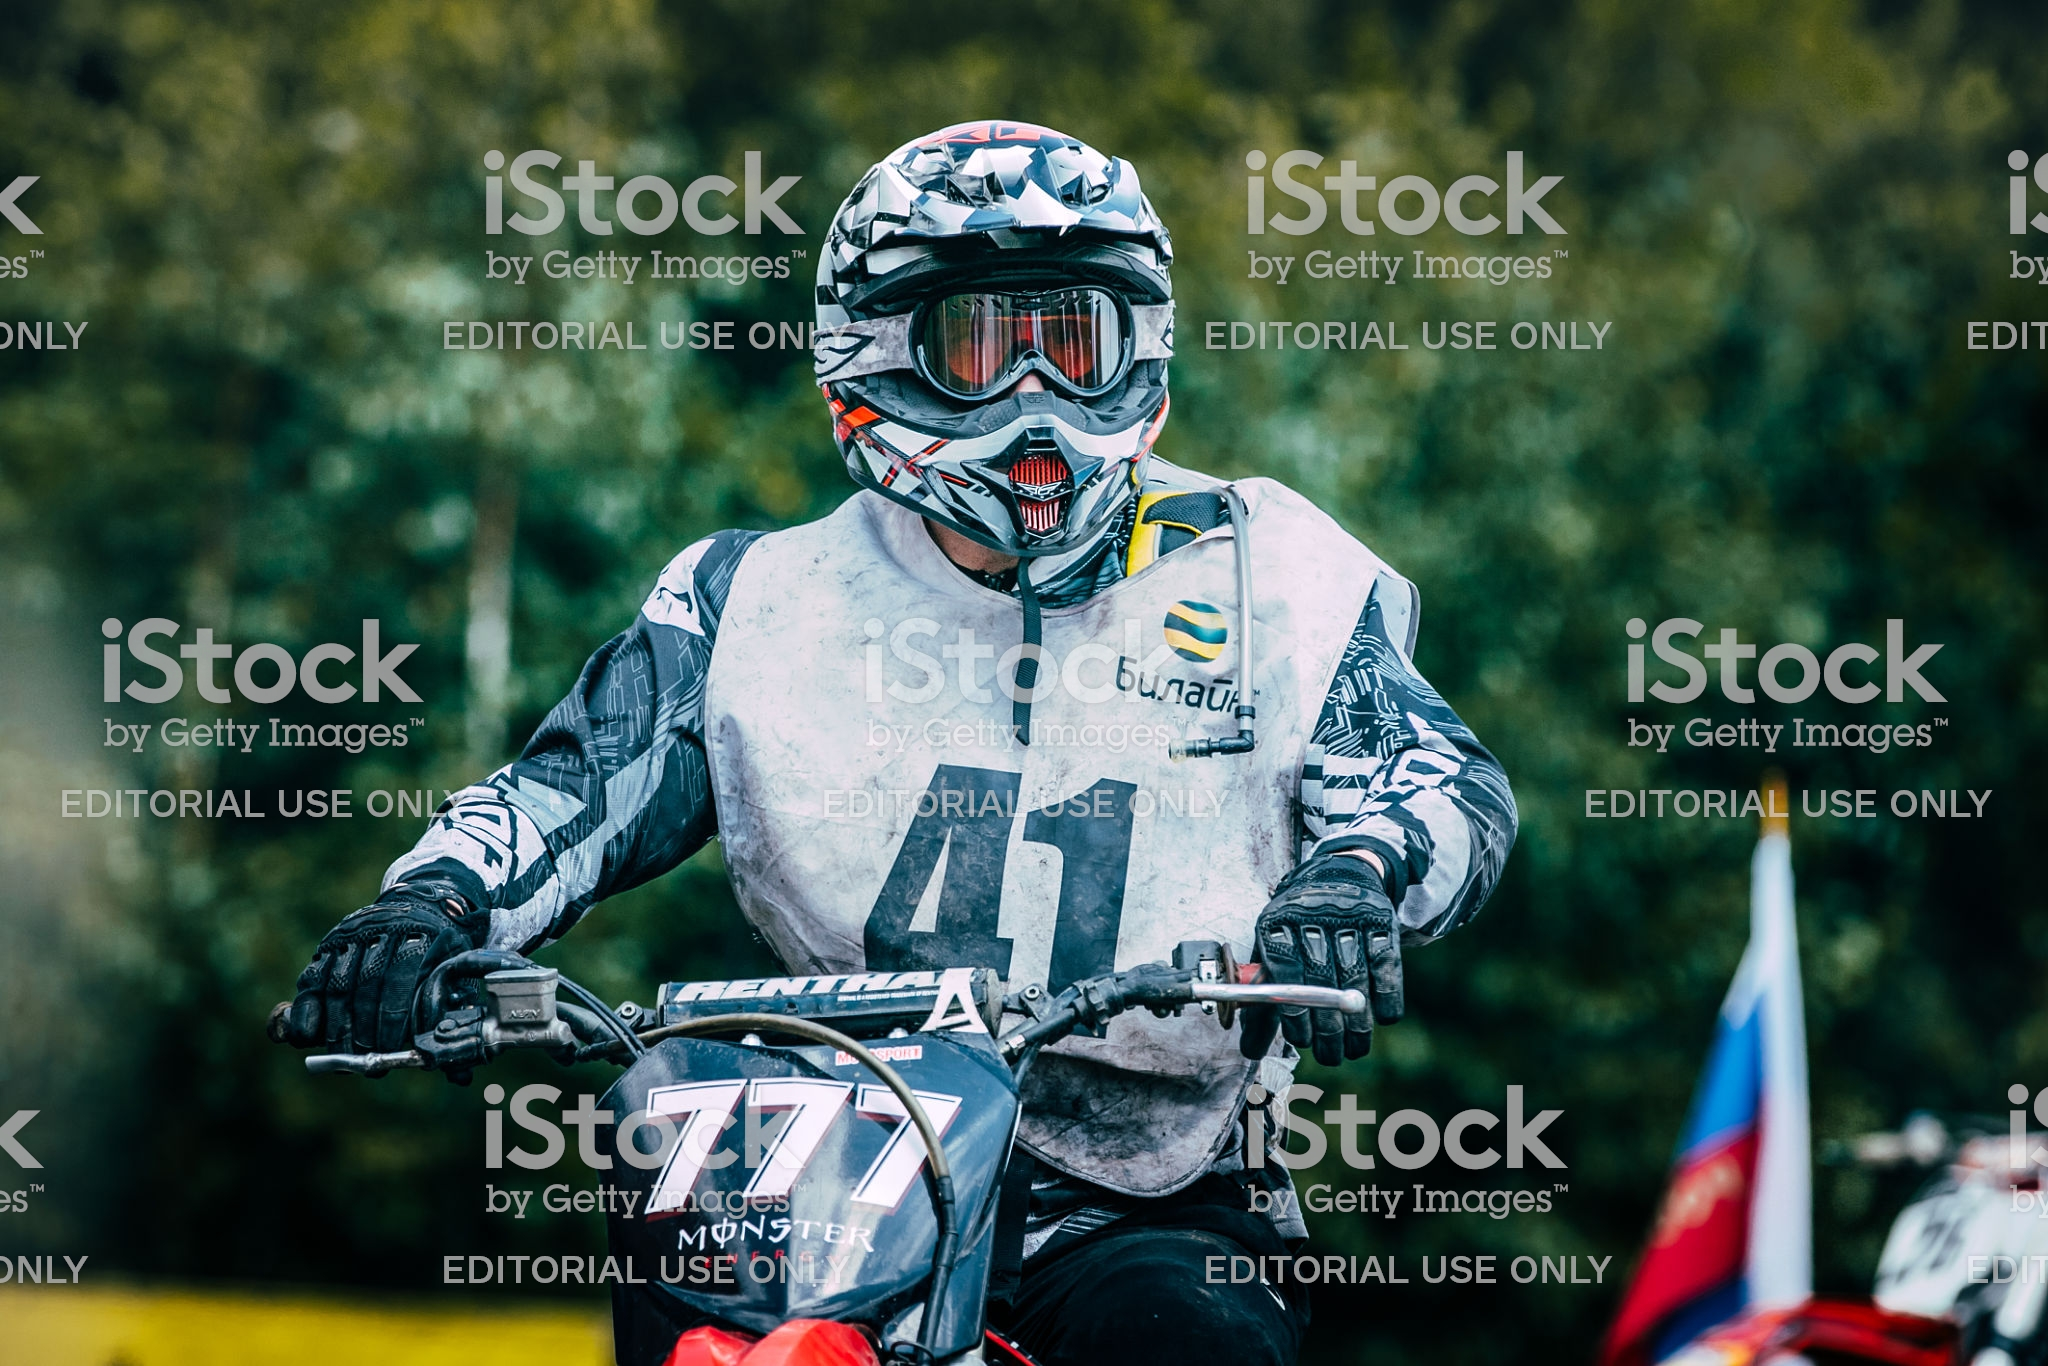helmet: (802, 136, 1198, 544)
